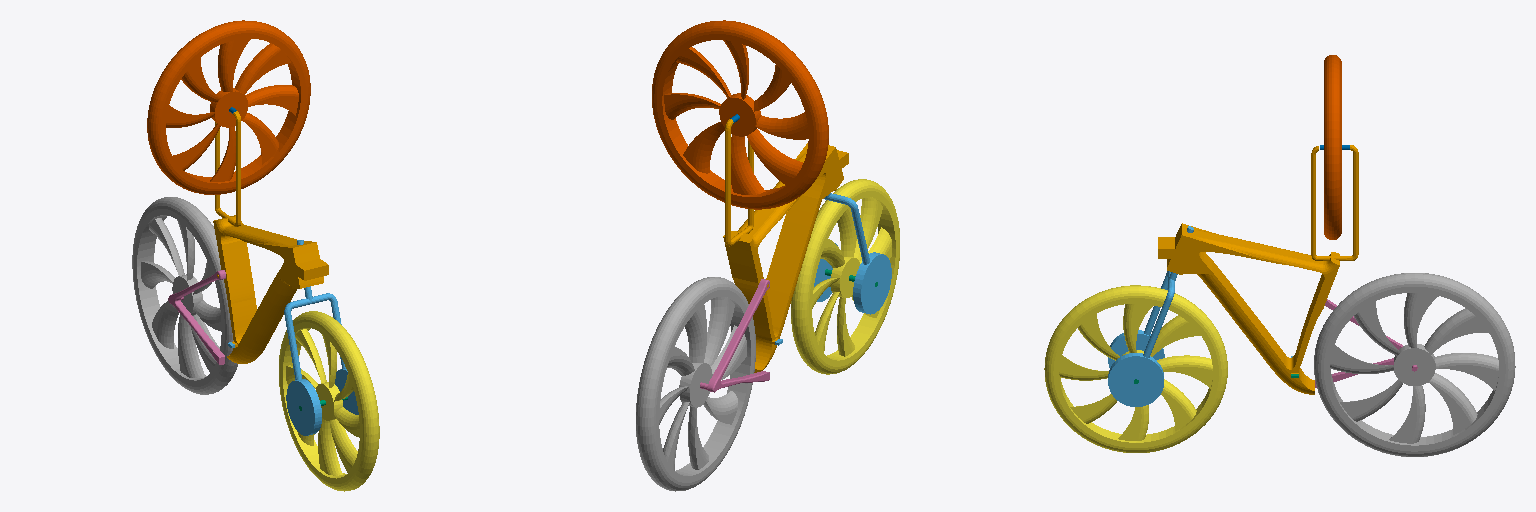
The robot description file, URDF, robot "cycle2":
<?xml version="1.0" ?>
<robot name="cycle2">

<material name="silver">
  <color rgba="0.700 0.700 0.700 1.000"/>
</material>

<link name="base_link">
  <inertial>
    <origin xyz="0.0005567628751563013 -0.07313908620001963 0.5323593908185844" rpy="0 0 0"/>
    <mass value="31.679421113683862"/>
    <inertia ixx="1.4559623092538434" iyy="0.7700665203602579" izz="0.7165641494790979" ixy="0.00013918410062508692" iyz="0.2587871331853111" ixz="-3.0993364194433284e-05"/>
  </inertial>
  <visual>
    <origin xyz="0 0 0" rpy="0 0 0"/>
    <geometry>
      <mesh filename="meshes/base_link.stl" scale="0.001 0.001 0.001"/>
    </geometry>
    <material name="silver"/>
    <material/>
  </visual>
  <collision>
    <origin xyz="0 0 0" rpy="0 0 0"/>
    <geometry>
      <mesh filename="meshes/base_link.stl" scale="0.001 0.001 0.001"/>
    </geometry>
  </collision>
</link>

<link name="streeing1">
  <inertial>
    <origin xyz="-0.0004487584841056444 -0.1390970775014022 -0.3938490994450553" rpy="0 0 0"/>
    <mass value="10.063601574819897"/>
    <inertia ixx="0.15057982081641752" iyy="0.17944995328850766" izz="0.08547144177395527" ixy="-4.517566197283912e-05" iyz="-0.03939192937080538" ixz="-0.0002419046157883792"/>
  </inertial>
  <visual>
    <origin xyz="-0.00058 0.259289 -0.723563" rpy="0 0 0"/>
    <geometry>
      <mesh filename="meshes/streeing1.stl" scale="0.001 0.001 0.001"/>
    </geometry>
    <material name="silver"/>
    <material/>
  </visual>
  <collision>
    <origin xyz="-0.00058 0.259289 -0.723563" rpy="0 0 0"/>
    <geometry>
      <mesh filename="meshes/streeing1.stl" scale="0.001 0.001 0.001"/>
    </geometry>
  </collision>
</link>

<link name="front_holder1">
  <inertial>
    <origin xyz="-0.09019989305976718 4.2738175526357836e-07 -2.3596509074463867e-07" rpy="0 0 0"/>
    <mass value="0.2991463907753701"/>
    <inertia ixx="1.0057301657831474e-05" iyy="0.000816317651230275" izz="0.0008163176512302611" ixy="3.3881317890172014e-19" iyz="0.0" ixz="1.0638733817514012e-18"/>
  </inertial>
  <visual>
    <origin xyz="-0.09078 0.415366 -0.283431" rpy="0 0 0"/>
    <geometry>
      <mesh filename="meshes/front_holder1.stl" scale="0.001 0.001 0.001"/>
    </geometry>
    <material name="silver"/>
    <material/>
  </visual>
  <collision>
    <origin xyz="-0.09078 0.415366 -0.283431" rpy="0 0 0"/>
    <geometry>
      <mesh filename="meshes/front_holder1.stl" scale="0.001 0.001 0.001"/>
    </geometry>
  </collision>
</link>

<link name="front_wheel1">
  <inertial>
    <origin xyz="-0.0846352266375138 -0.02876316773673071 0.00985845310731659" rpy="0 0 0"/>
    <mass value="37.17730239042874"/>
    <inertia ixx="1.7375653799570827" iyy="0.8743078590667359" izz="0.874298799426958" ixy="-2.5172926156058484e-07" iyz="3.898829978865592e-07" ixz="-1.3856980547732878e-07"/>
  </inertial>
  <visual>
    <origin xyz="-0.09078 0.386603 -0.273572" rpy="0 0 0"/>
    <geometry>
      <mesh filename="meshes/front_wheel1.stl" scale="0.001 0.001 0.001"/>
    </geometry>
    <material name="silver"/>
    <material/>
  </visual>
  <collision>
    <origin xyz="-0.09078 0.386603 -0.273572" rpy="0 0 0"/>
    <geometry>
      <mesh filename="meshes/front_wheel1.stl" scale="0.001 0.001 0.001"/>
    </geometry>
  </collision>
</link>

<link name="pend_holder1">
  <inertial>
    <origin xyz="1.0694023293668972e-07 -0.04448466020741093 -1.8409948121522746e-08" rpy="0 0 0"/>
    <mass value="0.147533560905126"/>
    <inertia ixx="9.97988424500107e-05" iyy="4.960078317600702e-06" izz="9.97988424500237e-05" ixy="-3.3881317890172014e-21" iyz="-3.469446951953614e-18" ixz="-3.1170812458958252e-19"/>
  </inertial>
  <visual>
    <origin xyz="-0.00058 -0.207323 -0.993896" rpy="0 0 0"/>
    <geometry>
      <mesh filename="meshes/pend_holder1.stl" scale="0.001 0.001 0.001"/>
    </geometry>
    <material name="silver"/>
    <material/>
  </visual>
  <collision>
    <origin xyz="-0.00058 -0.207323 -0.993896" rpy="0 0 0"/>
    <geometry>
      <mesh filename="meshes/pend_holder1.stl" scale="0.001 0.001 0.001"/>
    </geometry>
  </collision>
</link>

<link name="pendlum1">
  <inertial>
    <origin xyz="1.889176186617523e-07 0.03834953914299745 -2.0683651347219723e-08" rpy="0 0 0"/>
    <mass value="38.41660818527807"/>
    <inertia ixx="0.9234208450776507" iyy="1.8351809153076104" izz="0.9234215646461217" ixy="5.2212548065470876e-08" iyz="-1.3725382608242853e-08" ixz="-2.29449910720686e-07"/>
  </inertial>
  <visual>
    <origin xyz="-0.00058 -0.118353 -0.993896" rpy="0 0 0"/>
    <geometry>
      <mesh filename="meshes/pendlum1.stl" scale="0.001 0.001 0.001"/>
    </geometry>
    <material name="silver"/>
    <material/>
  </visual>
  <collision>
    <origin xyz="-0.00058 -0.118353 -0.993896" rpy="0 0 0"/>
    <geometry>
      <mesh filename="meshes/pendlum1.stl" scale="0.001 0.001 0.001"/>
    </geometry>
  </collision>
</link>

<link name="base_holder1">
  <inertial>
    <origin xyz="0.013437955965770507 0.1408306073208046 -0.15926068319012132" rpy="0 0 0"/>
    <mass value="1.7402662193818301"/>
    <inertia ixx="0.027643053485653157" iyy="0.012330297386528105" izz="0.01595116429183753" ixy="-0.0007251802421858085" iyz="0.0027455523703072138" ixz="0.00015954986616242145"/>
  </inertial>
  <visual>
    <origin xyz="0.06092 -0.115023 -0.485906" rpy="0 0 0"/>
    <geometry>
      <mesh filename="meshes/base_holder1.stl" scale="0.001 0.001 0.001"/>
    </geometry>
    <material name="silver"/>
    <material/>
  </visual>
  <collision>
    <origin xyz="0.06092 -0.115023 -0.485906" rpy="0 0 0"/>
    <geometry>
      <mesh filename="meshes/base_holder1.stl" scale="0.001 0.001 0.001"/>
    </geometry>
  </collision>
</link>

<link name="rare_wheel1">
  <inertial>
    <origin xyz="-0.028382674498926133 -1.077765981516432e-06 -1.251926572964912e-07" rpy="0 0 0"/>
    <mass value="49.334829889620515"/>
    <inertia ixx="2.784418118574923" iyy="1.4010615742853512" izz="1.4010499845164919" ixy="-6.041788266596126e-07" iyz="6.757640065302439e-07" ixz="-1.7205509880019454e-07"/>
  </inertial>
  <visual>
    <origin xyz="-0.02928 -0.395448 -0.29533" rpy="0 0 0"/>
    <geometry>
      <mesh filename="meshes/rare_wheel1.stl" scale="0.001 0.001 0.001"/>
    </geometry>
    <material name="silver"/>
    <material/>
  </visual>
  <collision>
    <origin xyz="-0.02928 -0.395448 -0.29533" rpy="0 0 0"/>
    <geometry>
      <mesh filename="meshes/rare_wheel1.stl" scale="0.001 0.001 0.001"/>
    </geometry>
  </collision>
</link>

<link name="camera1">
  <inertial>
    <origin xyz="1.0694023287196285e-07 -0.0061503118949753355 -1.8104474364122325e-08" rpy="0 0 0"/>
    <mass value="0.2596943318697435"/>
    <inertia ixx="2.655655948280433e-05" iyy="0.000168797853818084" izz="0.00014878948691337754" ixy="1.1993986533120893e-18" iyz="-2.0816681711721685e-17" ixz="-1.2197274440461925e-19"/>
  </inertial>
  <visual>
    <origin xyz="-0.00058 0.339566 -0.669996" rpy="0 0 0"/>
    <geometry>
      <mesh filename="meshes/camera1.stl" scale="0.001 0.001 0.001"/>
    </geometry>
    <material name="silver"/>
    <material/>
  </visual>
  <collision>
    <origin xyz="-0.00058 0.339566 -0.669996" rpy="0 0 0"/>
    <geometry>
      <mesh filename="meshes/camera1.stl" scale="0.001 0.001 0.001"/>
    </geometry>
  </collision>
</link>

<link name="sensor21">
  <inertial>
    <origin xyz="-0.00614989305976707 -0.00022805667205980096 1.8192846305165045e-05" rpy="0 0 0"/>
    <mass value="0.019115412857786347"/>
    <inertia ixx="1.0362402175041405e-06" iyy="3.4834950673177413e-07" izz="1.169885845980908e-06" ixy="0.0" iyz="-4.201095568645563e-09" ixz="1.0842021724855044e-19"/>
  </inertial>
  <visual>
    <origin xyz="0.04862 -0.046393 -0.290886" rpy="0 0 0"/>
    <geometry>
      <mesh filename="meshes/sensor21.stl" scale="0.001 0.001 0.001"/>
    </geometry>
    <material name="silver"/>
    <material/>
  </visual>
  <collision>
    <origin xyz="0.04862 -0.046393 -0.290886" rpy="0 0 0"/>
    <geometry>
      <mesh filename="meshes/sensor21.stl" scale="0.001 0.001 0.001"/>
    </geometry>
  </collision>
</link>

<link name="sensor11">
  <inertial>
    <origin xyz="0.006150106940232929 -0.0001866862380678902 -1.119017549472412e-05" rpy="0 0 0"/>
    <mass value="0.019150156242184645"/>
    <inertia ixx="1.041309885421596e-06" iyy="3.488462314018507e-07" izz="1.1753348436667791e-06" ixy="0.0" iyz="4.0169259978841895e-09" ixz="0.0"/>
  </inertial>
  <visual>
    <origin xyz="-0.04978 -0.046283 -0.285441" rpy="0 0 0"/>
    <geometry>
      <mesh filename="meshes/sensor11.stl" scale="0.001 0.001 0.001"/>
    </geometry>
    <material name="silver"/>
    <material/>
  </visual>
  <collision>
    <origin xyz="-0.04978 -0.046283 -0.285441" rpy="0 0 0"/>
    <geometry>
      <mesh filename="meshes/sensor11.stl" scale="0.001 0.001 0.001"/>
    </geometry>
  </collision>
</link>

<joint name="streeing" type="revolute">
  <origin xyz="0.00058 -0.259289 0.723563" rpy="0 0 0"/>
  <parent link="base_link"/>
  <child link="streeing1"/>
  <axis xyz="-0.0 -0.316228 -0.948683"/>
  <limit upper="1.134464" lower="-1.134464" effort="100" velocity="100"/>
</joint>
<transmission name="streeing_tran">
  <type>transmission_interface/SimpleTransmission</type>
  <joint name="streeing">
    <hardwareInterface>PositionJointInterface</hardwareInterface>
  </joint>
  <actuator name="streeing_actr">
    <hardwareInterface>PositionJointInterface</hardwareInterface>
    <mechanicalReduction>1</mechanicalReduction>
  </actuator>
</transmission>

<joint name="front_holder" type="fixed">
  <origin xyz="0.0902 -0.156077 -0.440132" rpy="0 0 0"/>
  <parent link="streeing1"/>
  <child link="front_holder1"/>
</joint>

<joint name="frnt_wheel" type="continuous">
  <origin xyz="0.0 0.028763 -0.009859" rpy="0 0 0"/>
  <parent link="front_holder1"/>
  <child link="front_wheel1"/>
  <axis xyz="1.0 -0.0 -0.0"/>
</joint>
<transmission name="frnt_wheel_tran">
  <type>transmission_interface/SimpleTransmission</type>
  <joint name="frnt_wheel">
    <hardwareInterface>PositionJointInterface</hardwareInterface>
  </joint>
  <actuator name="frnt_wheel_actr">
    <hardwareInterface>PositionJointInterface</hardwareInterface>
    <mechanicalReduction>1</mechanicalReduction>
  </actuator>
</transmission>

<joint name="pend_holder" type="fixed">
  <origin xyz="0.00058 0.207323 0.993896" rpy="0 0 0"/>
  <parent link="base_link"/>
  <child link="pend_holder1"/>
</joint>

<joint name="pendulum" type="continuous">
  <origin xyz="0.0 -0.08897 0.0" rpy="0 0 0"/>
  <parent link="pend_holder1"/>
  <child link="pendlum1"/>
  <axis xyz="-0.0 -1.0 0.0"/>
</joint>
<transmission name="pendulum_tran">
  <type>transmission_interface/SimpleTransmission</type>
  <joint name="pendulum">
    <hardwareInterface>PositionJointInterface</hardwareInterface>
  </joint>
  <actuator name="pendulum_actr">
    <hardwareInterface>PositionJointInterface</hardwareInterface>
    <mechanicalReduction>1</mechanicalReduction>
  </actuator>
</transmission>

<joint name="base_holder" type="fixed">
  <origin xyz="-0.06092 0.115023 0.485906" rpy="0 0 0"/>
  <parent link="base_link"/>
  <child link="base_holder1"/>
</joint>

<joint name="rare_wheel" type="continuous">
  <origin xyz="0.0902 0.280425 -0.190576" rpy="0 0 0"/>
  <parent link="base_holder1"/>
  <child link="rare_wheel1"/>
  <axis xyz="1.0 -0.0 0.0"/>
</joint>
<transmission name="rare_wheel_tran">
  <type>transmission_interface/SimpleTransmission</type>
  <joint name="rare_wheel">
    <hardwareInterface>PositionJointInterface</hardwareInterface>
  </joint>
  <actuator name="rare_wheel_actr">
    <hardwareInterface>PositionJointInterface</hardwareInterface>
    <mechanicalReduction>1</mechanicalReduction>
  </actuator>
</transmission>

<joint name="camera" type="fixed">
  <origin xyz="0.00058 -0.339566 0.669996" rpy="0 0 0"/>
  <parent link="base_link"/>
  <child link="camera1"/>
</joint>

<joint name="sensor1" type="fixed">
  <origin xyz="-0.04862 0.046393 0.290886" rpy="0 0 0"/>
  <parent link="base_link"/>
  <child link="sensor21"/>
</joint>

<joint name="sensor2" type="fixed">
  <origin xyz="0.04978 0.046283 0.285441" rpy="0 0 0"/>
  <parent link="base_link"/>
  <child link="sensor11"/>
</joint>

</robot>

--- Facts derived from the render (not from the file) ---
Views: 3 orthographic renders of the robot side by side, from view 1: azimuth 30°, elevation 25°; view 2: azimuth 150°, elevation 25°; view 3: azimuth 270°, elevation 25°.
Model cycle2 with 11 links and 10 joints (1 revolute, 3 continuous, 6 fixed), rooted at base_link, posed all joints at 0.
Visible links, largest first — view 1: pendlum1, rare_wheel1, front_wheel1, base_link, streeing1, base_holder1; view 2: pendlum1, rare_wheel1, front_wheel1, base_link, streeing1, base_holder1; view 3: rare_wheel1, front_wheel1, base_link, streeing1, pendlum1.
Link boxes in pixels (left/top/right/bottom): pendlum1: left=147, top=20, right=310, bottom=194; rare_wheel1: left=132, top=197, right=237, bottom=394; front_wheel1: left=279, top=311, right=379, bottom=491; base_link: left=213, top=111, right=325, bottom=363; streeing1: left=284, top=240, right=358, bottom=435; base_holder1: left=168, top=270, right=225, bottom=364; pendlum1: left=652, top=20, right=828, bottom=209; rare_wheel1: left=636, top=277, right=755, bottom=491; front_wheel1: left=791, top=179, right=899, bottom=374; base_link: left=723, top=119, right=845, bottom=372; streeing1: left=814, top=193, right=891, bottom=314; base_holder1: left=700, top=279, right=769, bottom=392; rare_wheel1: left=1314, top=273, right=1515, bottom=456; front_wheel1: left=1044, top=285, right=1227, bottom=452; base_link: left=1162, top=145, right=1358, bottom=394; streeing1: left=1108, top=226, right=1193, bottom=406; pendlum1: left=1324, top=55, right=1341, bottom=239.
Size in the robot's own frame: 0.5401 by 1.37 by 1.26 metres.
Meshes: 11 distinct files referenced, 11 mesh visuals loaded (11 binary STL).